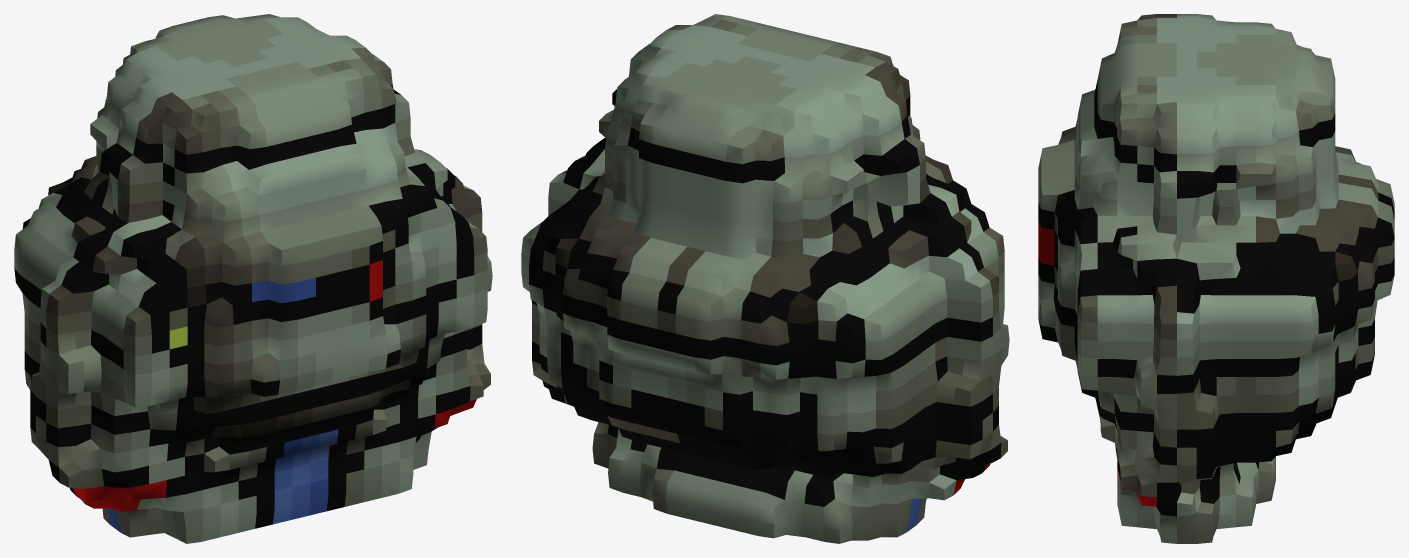
The model's file is Icon_749_02.obj.
3 renders of one model, left to right at view 1: azimuth 30°, elevation 25°; view 2: azimuth 150°, elevation 25°; view 3: azimuth 270°, elevation 25°, orthographic. The views are drawn at different scales.
Bounding box in the file's own units: 2.4 × 2.3 × 1.8.
